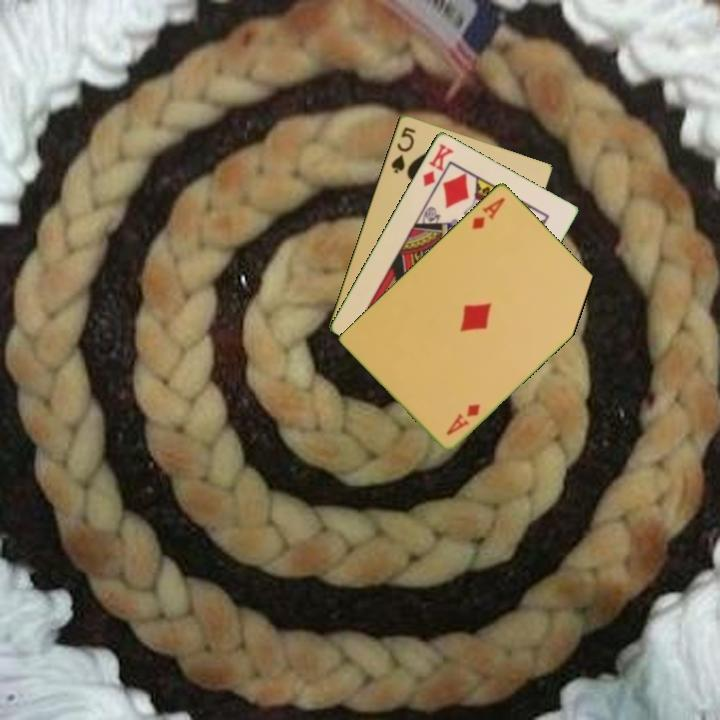5s: (387, 123, 418, 176)
Ad: (468, 193, 508, 232), (442, 400, 483, 438)
Kd: (419, 140, 457, 190)
